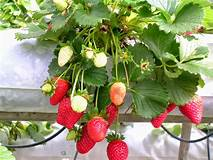Fresa: (54, 94, 86, 130), (177, 90, 206, 126), (47, 73, 71, 106), (85, 113, 109, 143), (76, 124, 97, 155), (105, 136, 132, 160), (100, 100, 117, 129)
